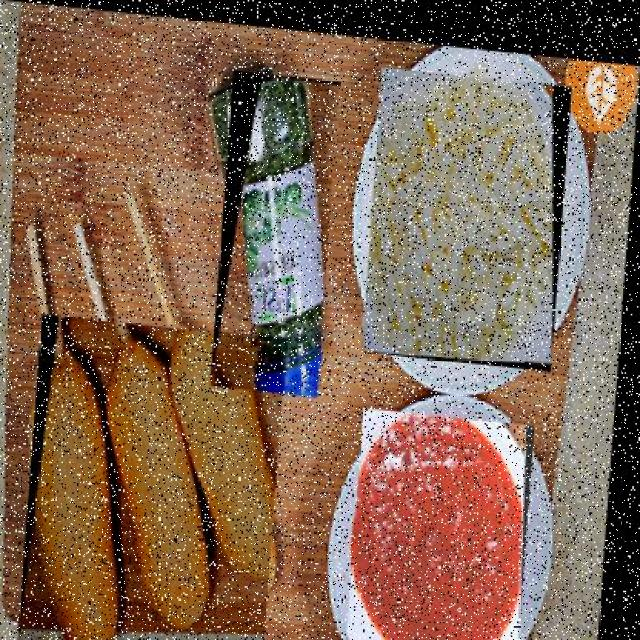Cheese: (366, 58, 574, 359)
Ketchup: (354, 397, 543, 638)
